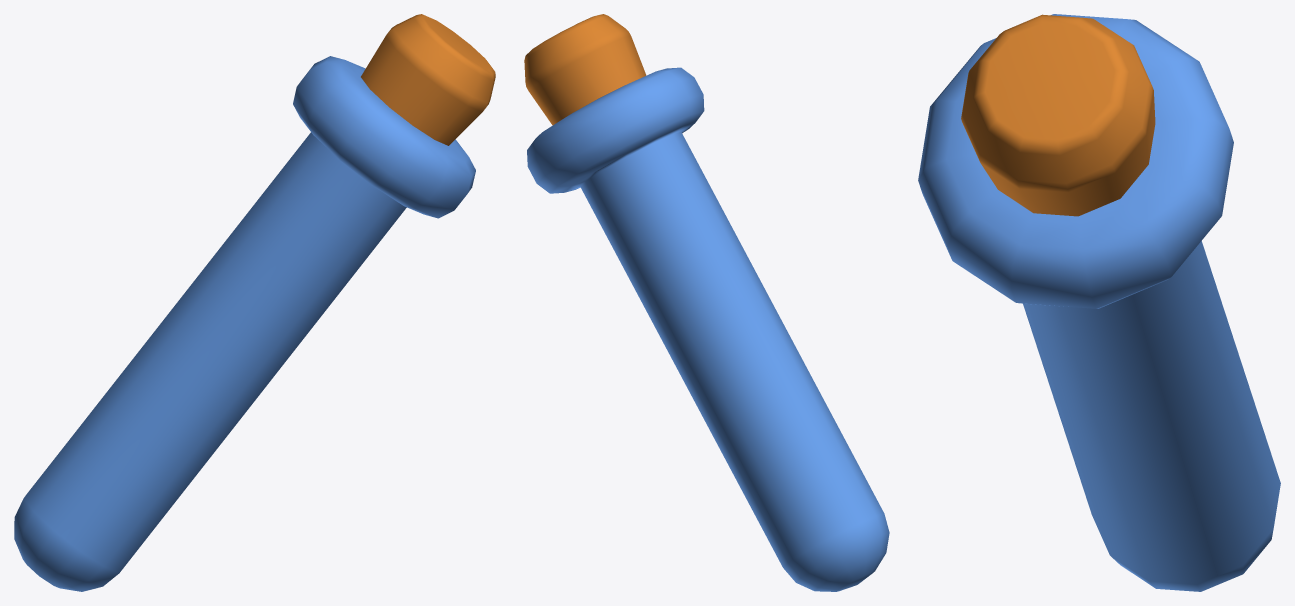
The picture shows the model from 3 angles, left to right: view 1: azimuth 30°, elevation 25°; view 2: azimuth 150°, elevation 25°; view 3: azimuth 270°, elevation 25°; orthographic projection. The views are drawn at different scales.
Parts seen in each view (by area): view 1: model_1.112; view 2: model_1.112; view 3: model_1.112.
Boxes of the visible parts, <box> form: model_1.112: <box>14,14,495,591</box>; model_1.112: <box>524,14,889,591</box>; model_1.112: <box>918,14,1280,591</box>.
Bounding box in the file's own units: 3.46 × 4.04 × 1.68.
